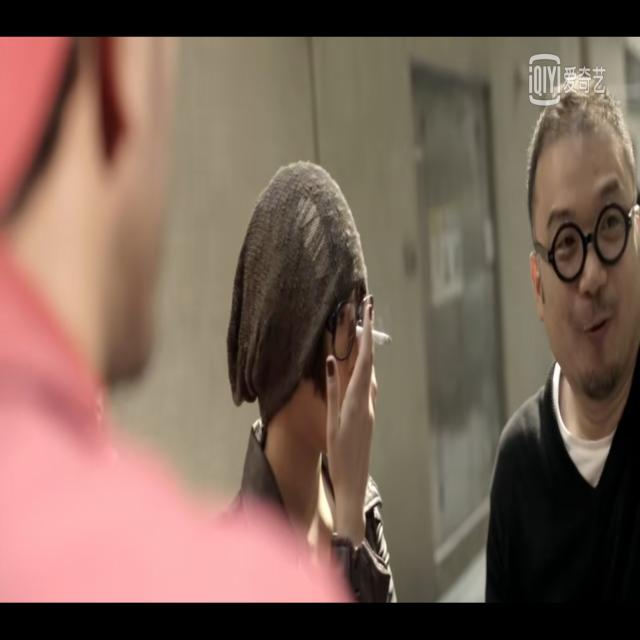cigarette: (355, 322, 393, 352)
